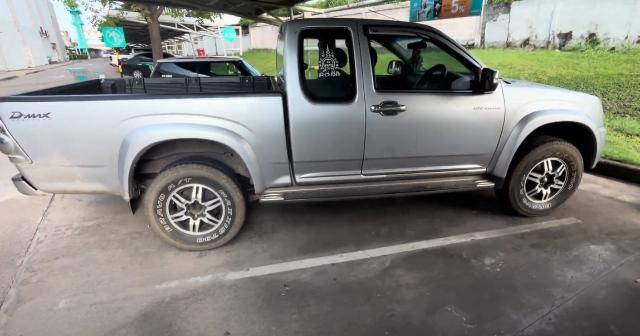pickup-truck: (0, 18, 607, 254)
